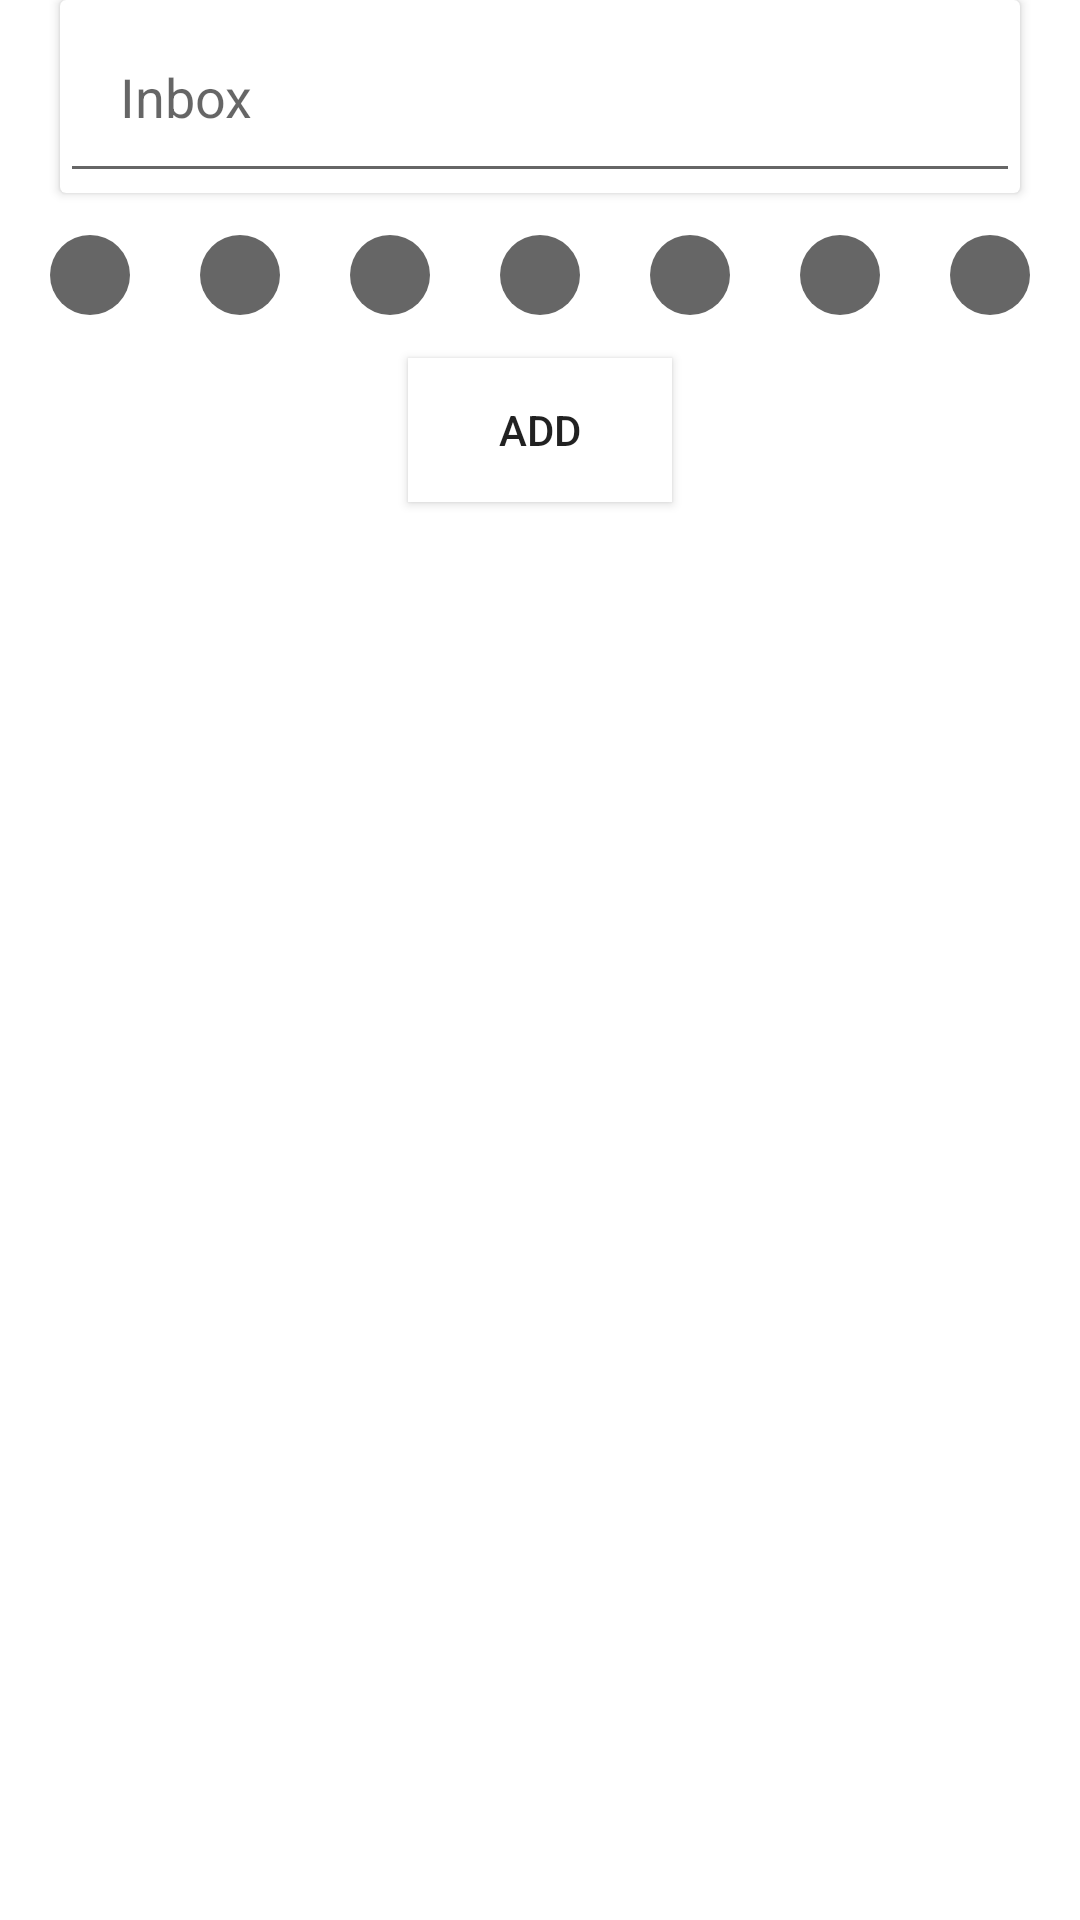

Where to tap for icons on this 1080 × 1920 app screen, as (x,y):
fiber manual record: (90,275), (240,275), (390,275), (540,275), (690,275), (840,275), (990,275)
